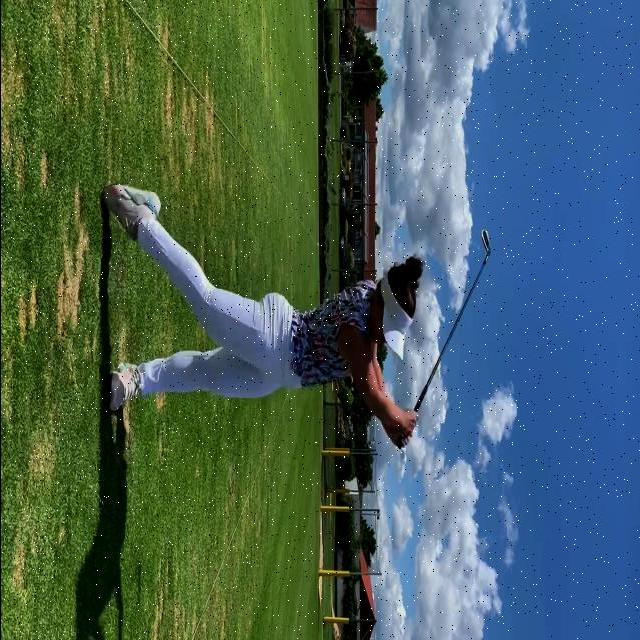golf club-handle: (391, 225, 489, 447)
golf club-head: (478, 230, 492, 254)
